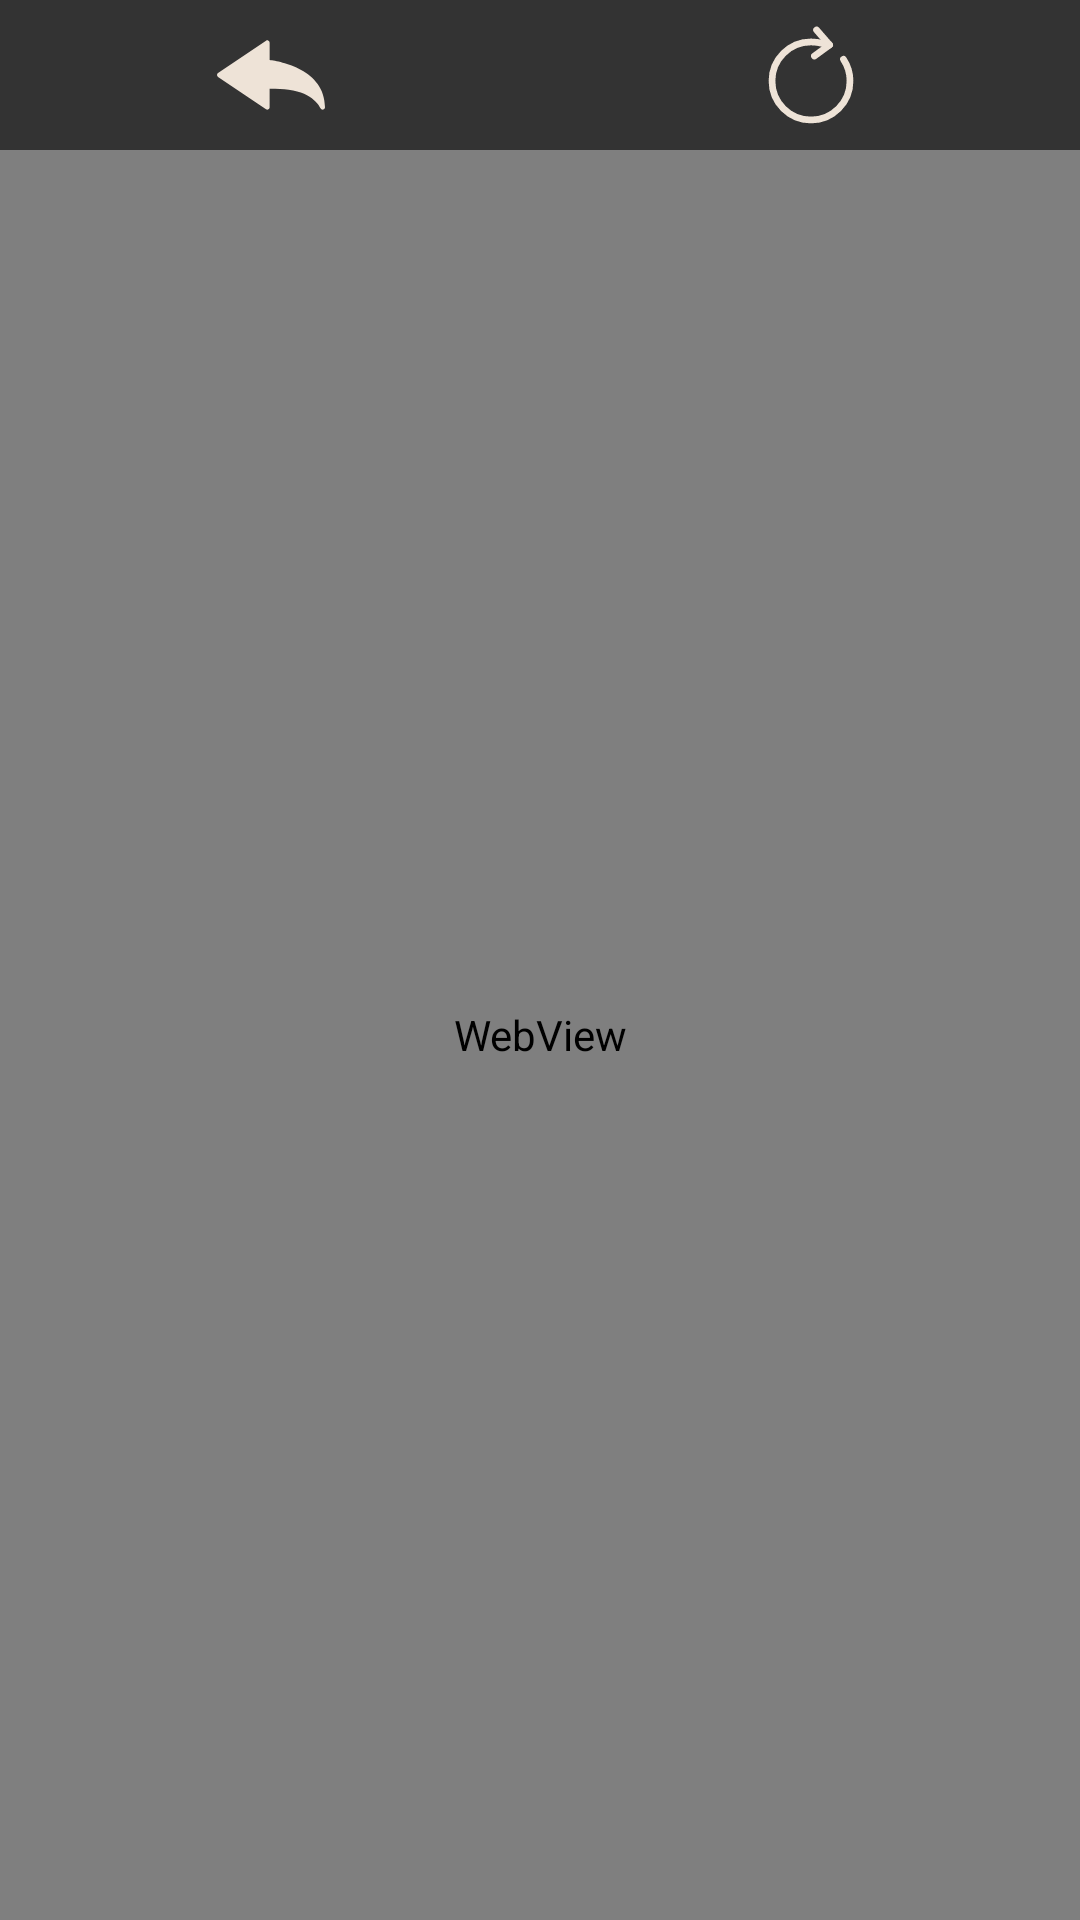

Screen size 1080px x 1920px. Icon name, then its box in pixels as (x1, y1, x2, y2):
web back: (217, 40, 325, 110)
web refresh: (768, 26, 854, 124)
